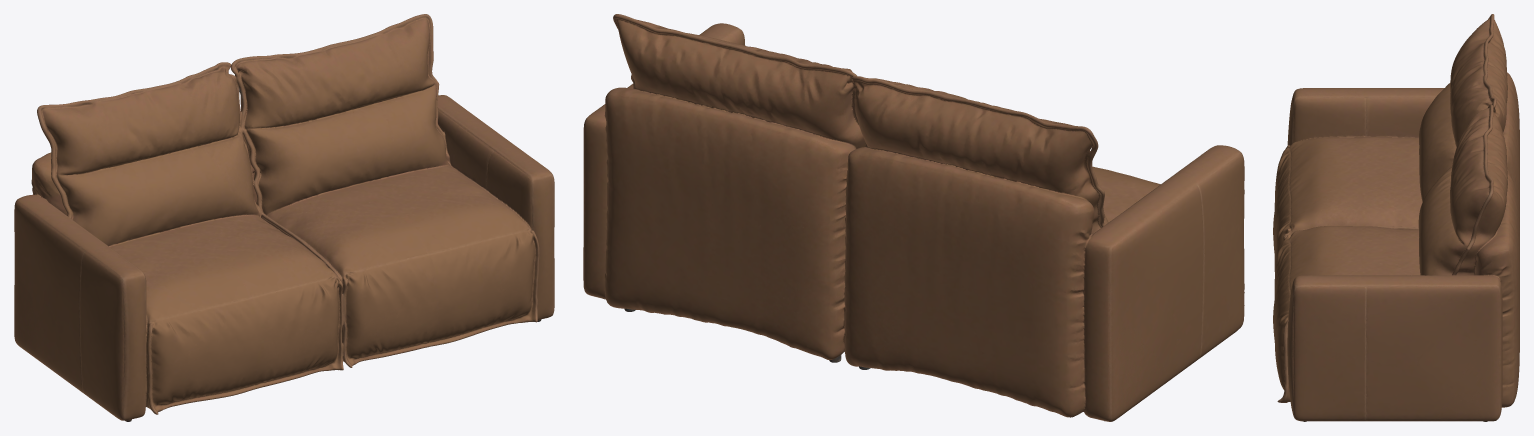
The model's file is arhaus-rowland-two.glb.
The picture shows the model from 3 angles, left to right: view 1: azimuth 30°, elevation 25°; view 2: azimuth 150°, elevation 25°; view 3: azimuth 270°, elevation 25°; orthographic projection. The views are drawn at different scales.
Size of the model in its own units: 1.9 by 0.9841 by 0.9762.
1 material, 1 textured.
